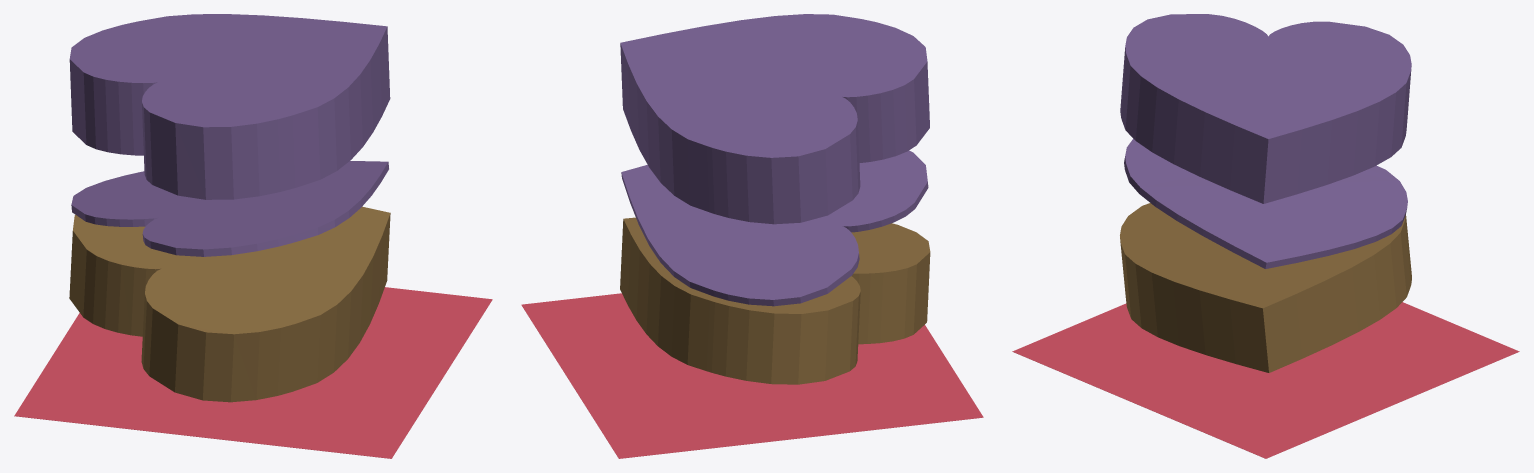
The model's file is CUU.glb.
3 views of the same model, side by side, from view 1: azimuth 30°, elevation 25°; view 2: azimuth 150°, elevation 25°; view 3: azimuth 270°, elevation 25° (orthographic). The views are drawn at different scales.
Parts seen in each view (by area): view 1: Mesh_Mesh_head_geo.001_lambert2SG.001; view 2: Mesh_Mesh_head_geo.001_lambert2SG.001; view 3: Mesh_Mesh_head_geo.001_lambert2SG.001.
Boxes of the visible parts, x1,y1,x2,y2 form: Mesh_Mesh_head_geo.001_lambert2SG.001: [14, 14, 492, 458]; Mesh_Mesh_head_geo.001_lambert2SG.001: [521, 14, 983, 458]; Mesh_Mesh_head_geo.001_lambert2SG.001: [1012, 14, 1519, 458].
Bounding box in the file's own units: 0.0354 × 0.0217 × 0.0354.
